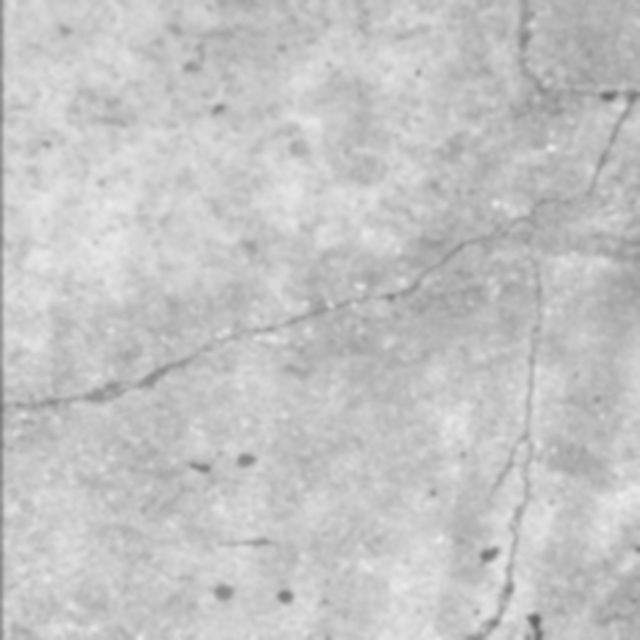SurfaceCrack: (1, 12, 640, 458)
